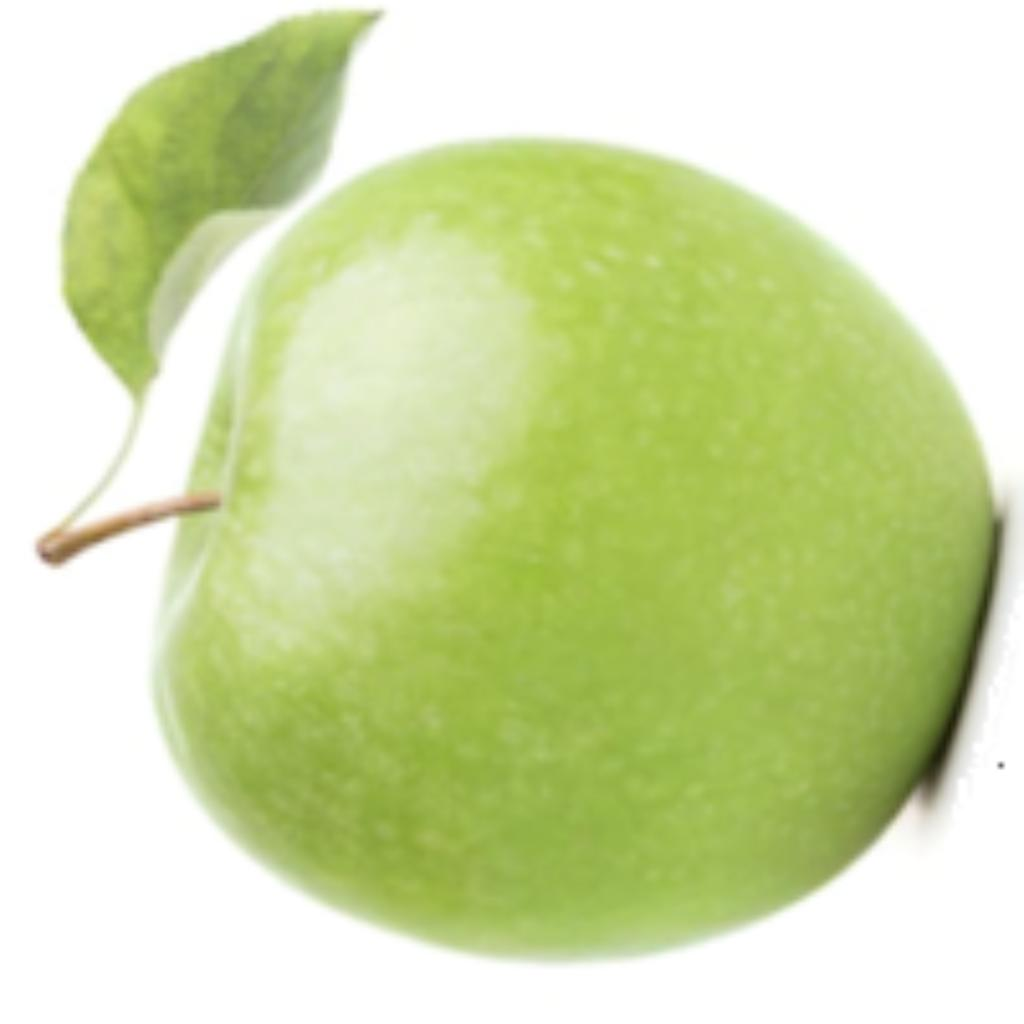apple: (26, 0, 1019, 968)
